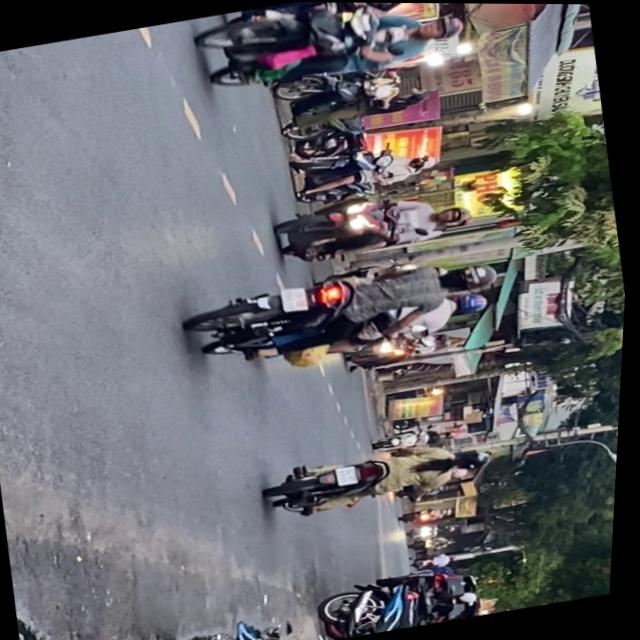helmet: (444, 258, 503, 293), (417, 11, 466, 41), (452, 288, 493, 315), (435, 202, 475, 226), (457, 446, 497, 470), (410, 151, 441, 170)
licenseplate: (180, 242, 511, 384), (188, 1, 471, 101), (265, 429, 503, 525), (271, 179, 480, 270), (288, 133, 446, 207), (214, 1, 445, 40)
nohelmet: (281, 284, 312, 312), (340, 464, 364, 485)
